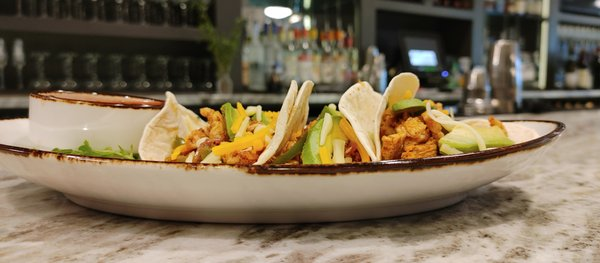sushi: (0, 78, 554, 227)
